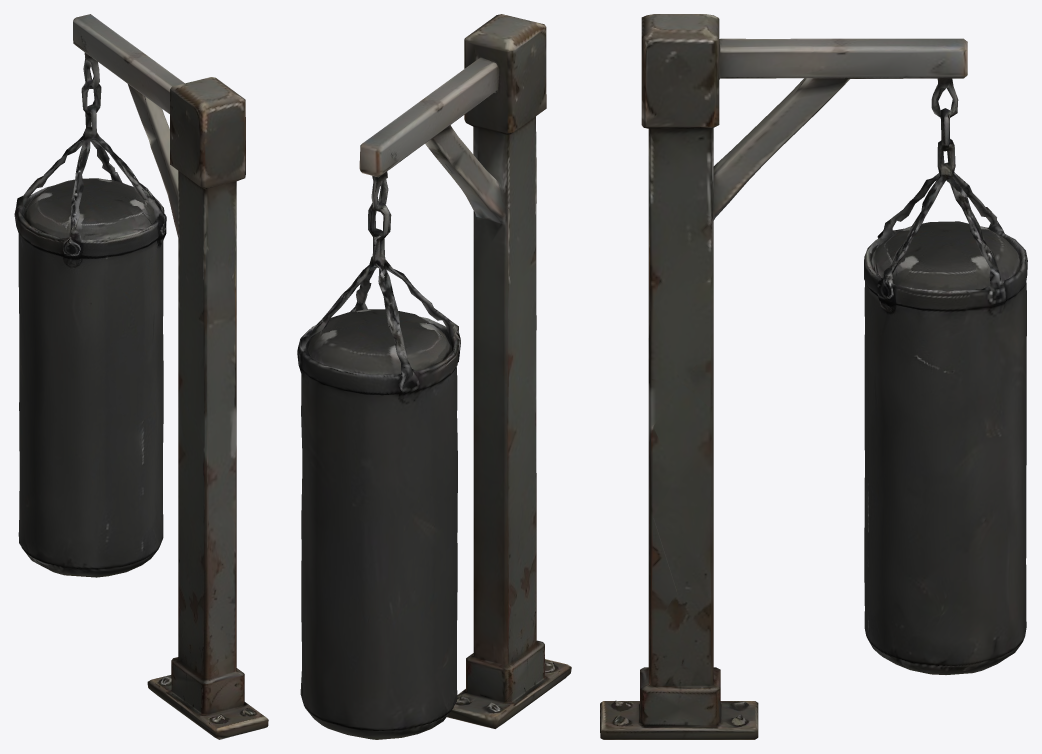
The model's file is tripo_convert_59e1a070-c537-4540-aed9-863bfeda925b.fbx.
The picture shows the model from 3 angles, left to right: view 1: azimuth 30°, elevation 25°; view 2: azimuth 150°, elevation 25°; view 3: azimuth 270°, elevation 25°; orthographic projection. The views are drawn at different scales.
Visible parts, largest first — view 1: tripo_node_59e1a070; view 2: tripo_node_59e1a070; view 3: tripo_node_59e1a070.
Part boxes in pixels (bbox=[...]): tripo_node_59e1a070: bbox=[14, 14, 268, 739]; tripo_node_59e1a070: bbox=[297, 14, 571, 739]; tripo_node_59e1a070: bbox=[600, 14, 1027, 739].
Size of the model in its own units: 0.2148 by 0.9999 by 0.5502.
1 material, 1 textured.
